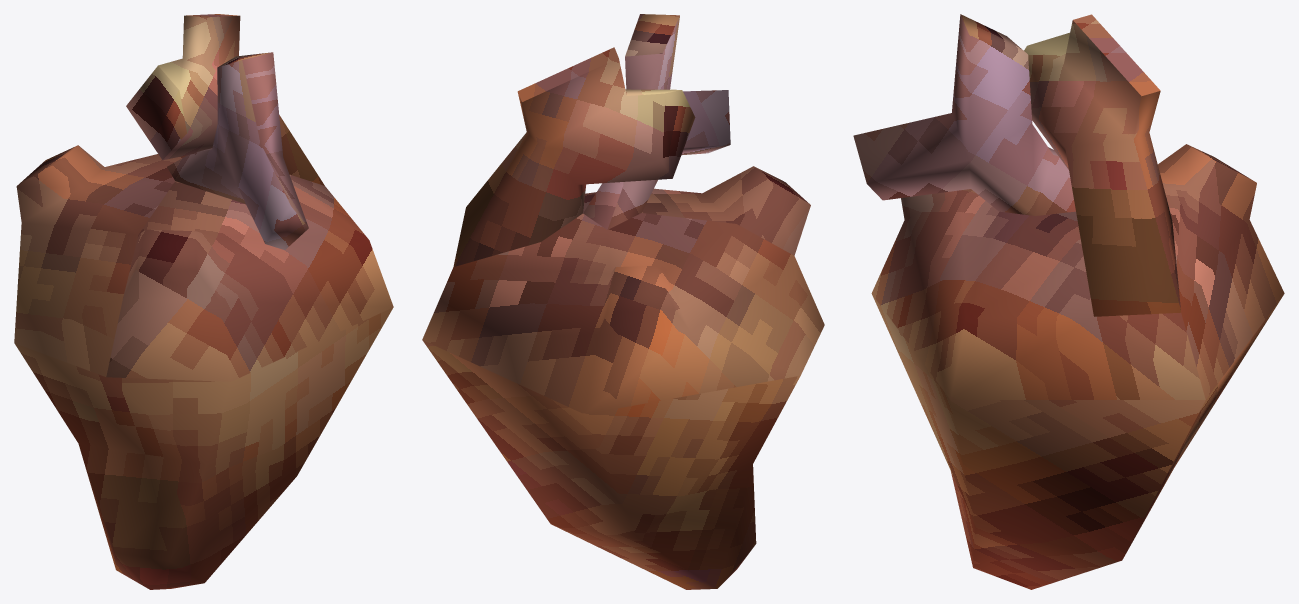
File: eqp_organ_heart_s01_l2.fbx
3 renders of one model, left to right at view 1: azimuth 30°, elevation 25°; view 2: azimuth 150°, elevation 25°; view 3: azimuth 270°, elevation 25°, orthographic. The views are drawn at different scales.
Visible parts, largest first — view 1: mesh_node; view 2: mesh_node; view 3: mesh_node.
Part boxes in pixels (bbox=[...]): mesh_node: bbox=[14, 14, 393, 589]; mesh_node: bbox=[422, 14, 824, 589]; mesh_node: bbox=[853, 14, 1284, 589].
Bounding box in the file's own units: 0.107 × 0.1733 × 0.1132.
